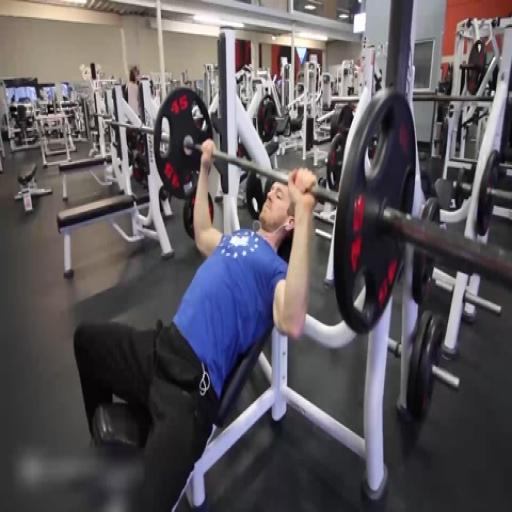exercise: (70, 136, 320, 510)
